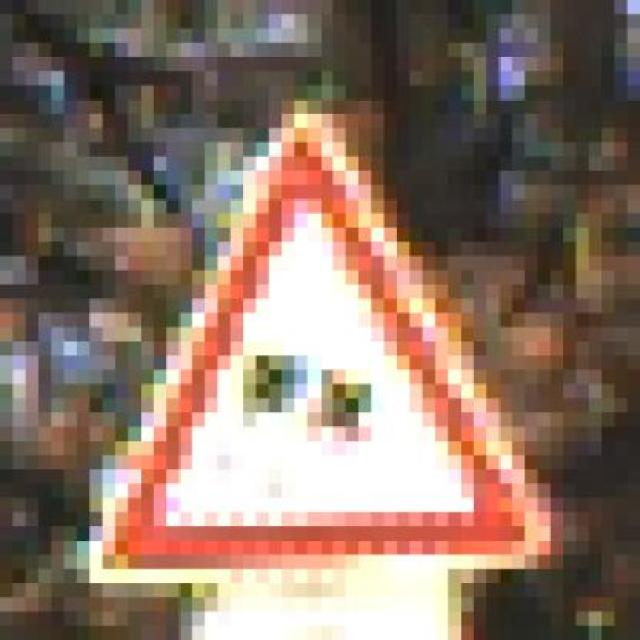Slippery Road Ahead: (65, 99, 563, 612)
